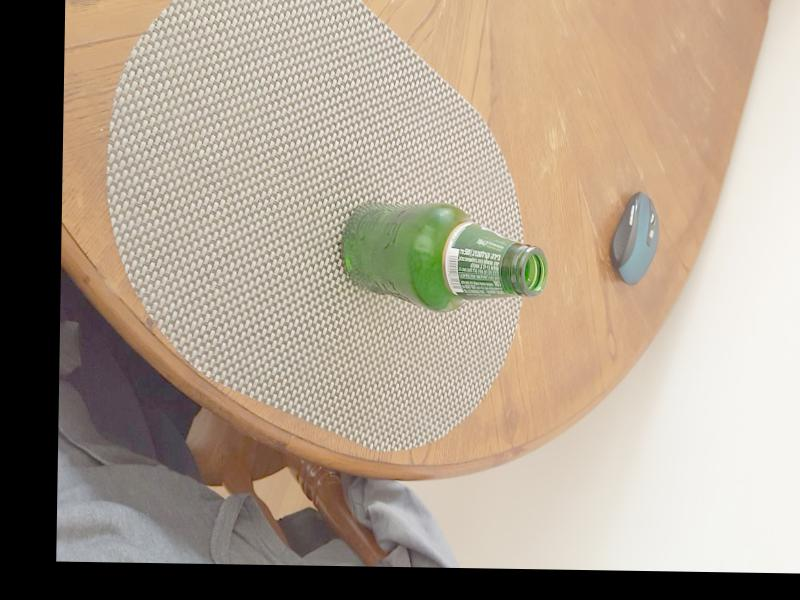Beer: (339, 196, 549, 317)
